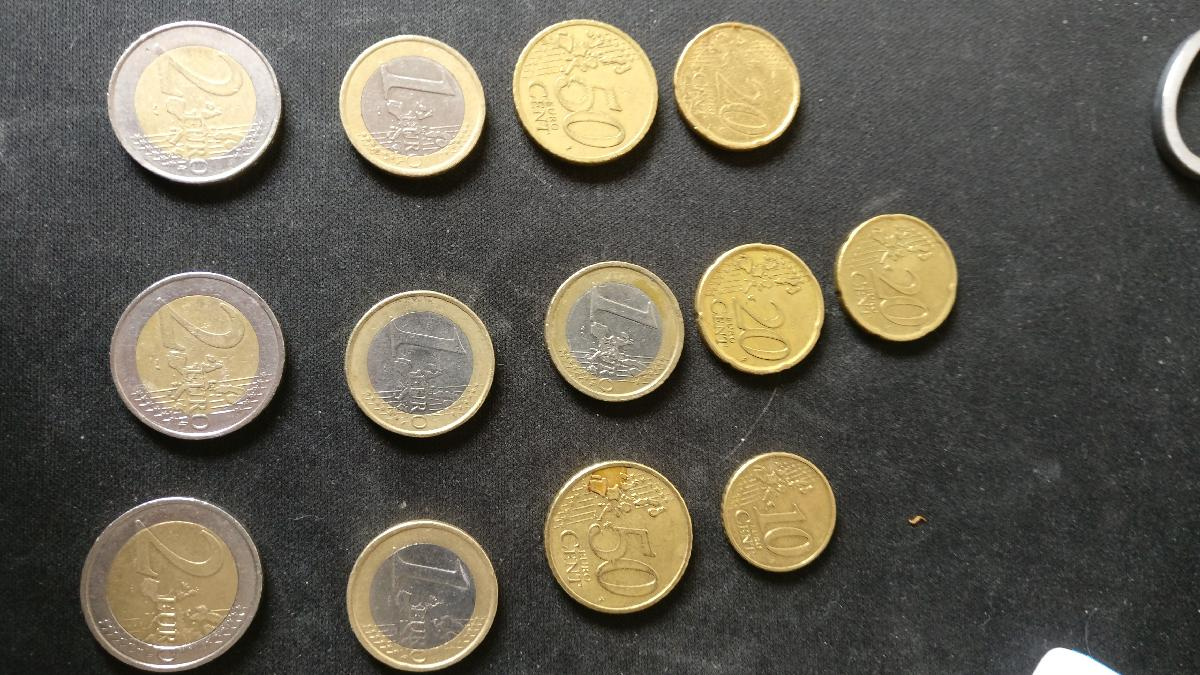Fifty Cent: (543, 462, 695, 619), (514, 16, 660, 172)
One Euro: (343, 290, 498, 444), (344, 518, 500, 665), (338, 34, 486, 176), (545, 258, 687, 404)
Ten Cent: (721, 452, 837, 578)
Twenty Cent: (830, 211, 967, 344), (695, 242, 829, 376), (671, 21, 799, 151)
Two Euro: (74, 492, 266, 667), (111, 272, 287, 443), (106, 20, 287, 178)
